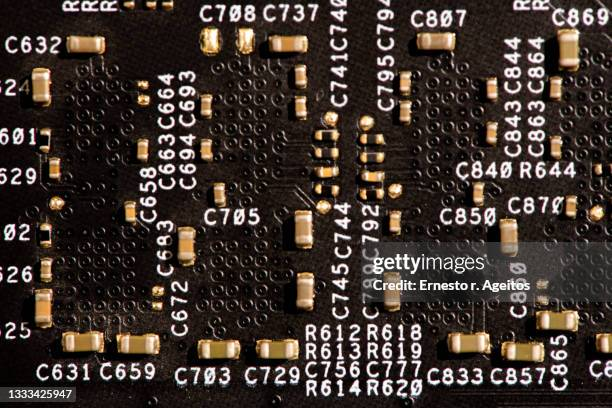Connector P: (362, 185, 381, 201), (39, 224, 52, 246), (318, 181, 336, 196), (39, 129, 51, 150), (363, 132, 380, 145), (318, 146, 335, 159), (318, 129, 336, 141), (363, 151, 380, 163), (546, 296, 558, 308)
Transformer T: (558, 29, 580, 67), (259, 339, 296, 359), (201, 339, 237, 359), (120, 334, 156, 354), (540, 310, 575, 330), (65, 332, 101, 351), (451, 333, 487, 352), (506, 342, 542, 361), (31, 69, 51, 103), (296, 273, 315, 308), (294, 211, 313, 245), (34, 290, 52, 325), (68, 35, 103, 52), (500, 219, 518, 252), (272, 35, 306, 52), (420, 32, 454, 49), (178, 228, 195, 261), (201, 27, 221, 53), (597, 333, 612, 353), (294, 64, 307, 87), (294, 96, 307, 118), (549, 77, 562, 99), (136, 139, 149, 160), (200, 139, 213, 160), (389, 211, 401, 233), (213, 183, 225, 205), (565, 196, 577, 217), (200, 95, 212, 116), (48, 158, 60, 179), (486, 122, 498, 143), (399, 72, 411, 93), (550, 137, 562, 158), (40, 258, 52, 279), (124, 202, 136, 222), (486, 79, 498, 99), (399, 101, 410, 122), (473, 183, 484, 203), (363, 171, 382, 182), (319, 166, 337, 177), (138, 94, 150, 104)
